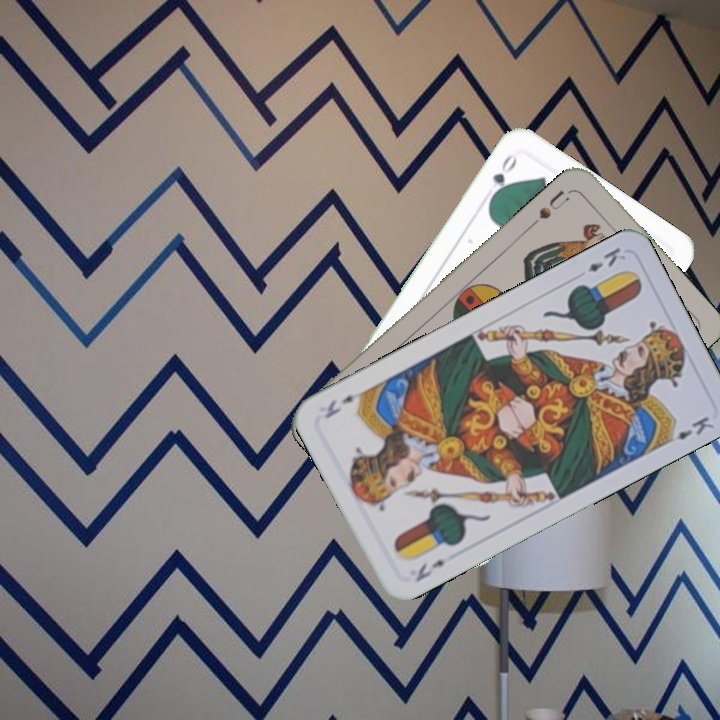EK: (583, 243, 629, 275), (411, 555, 448, 585)
GO: (486, 150, 520, 203)
SU: (527, 185, 572, 229)
